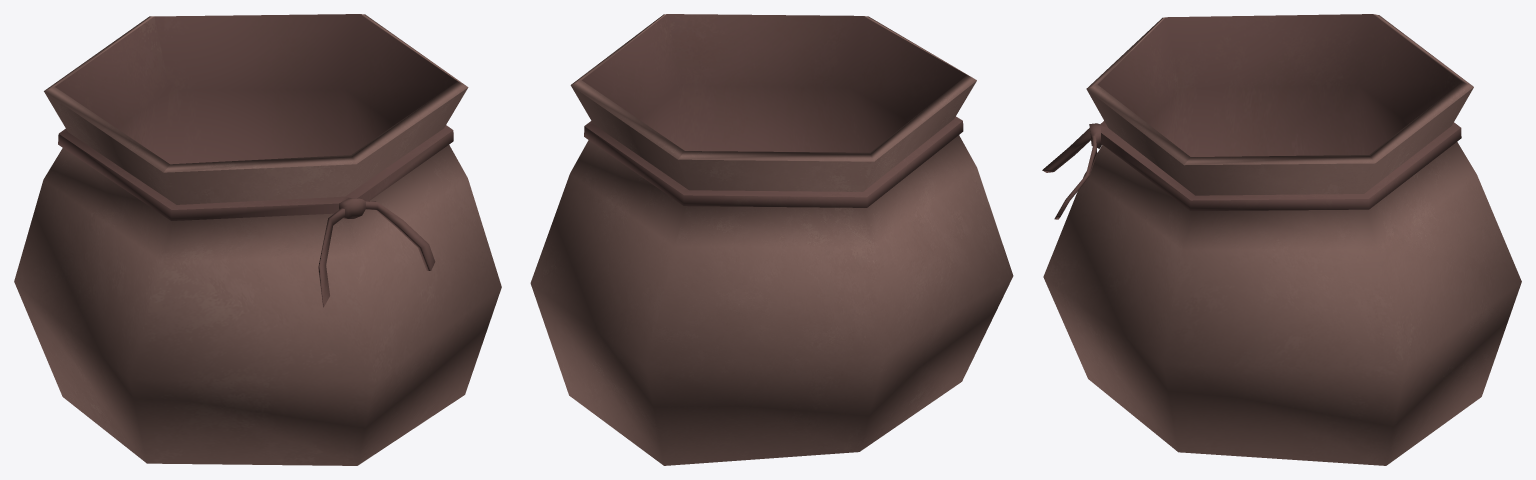
The model's file is CoinDust x40.fbx.
3 renders of one model, left to right at view 1: azimuth 30°, elevation 25°; view 2: azimuth 150°, elevation 25°; view 3: azimuth 270°, elevation 25°, orthographic. The views are drawn at different scales.
Visible parts, largest first — view 1: Coin Dust x40; view 2: Coin Dust x40; view 3: Coin Dust x40.
Boxes of the visible parts, box(x1,y1,x2,y2) form: Coin Dust x40: box(14, 14, 501, 465); Coin Dust x40: box(530, 14, 1013, 465); Coin Dust x40: box(1042, 14, 1521, 465).
Size of the model in its own units: 215 by 183 by 250.
